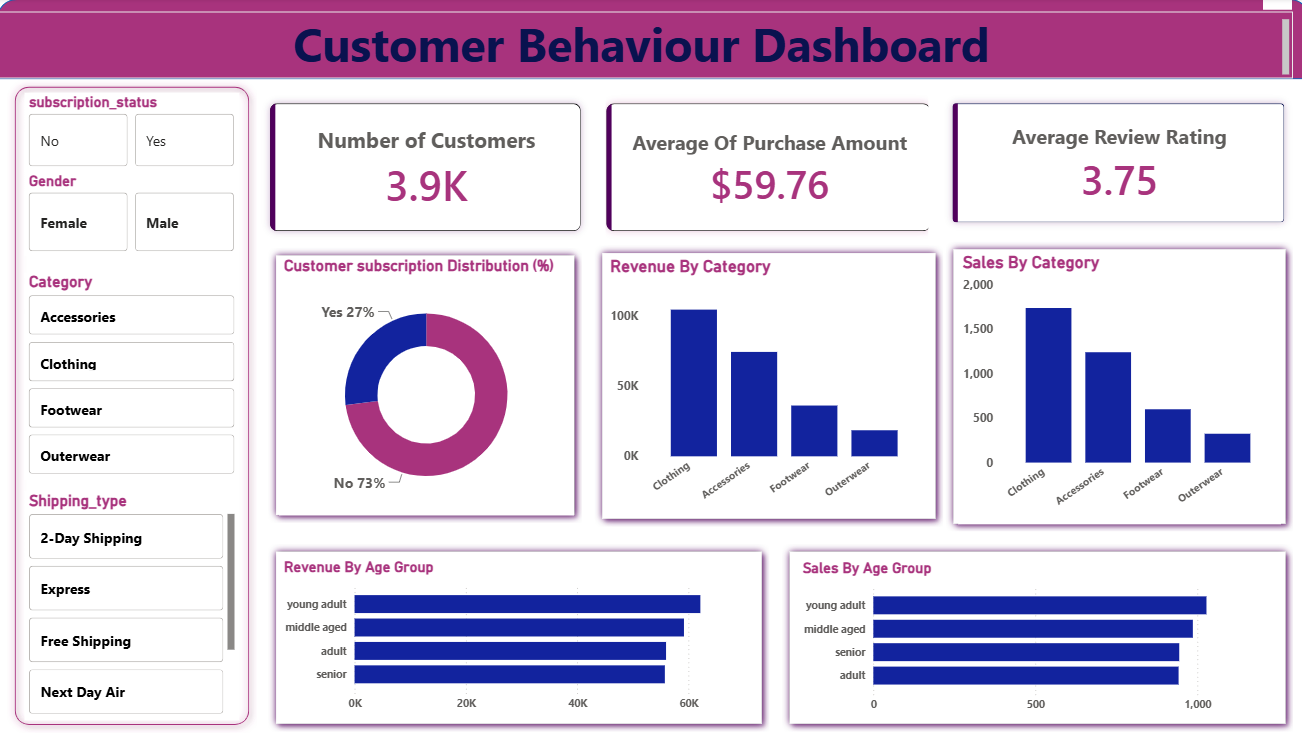

The dashboard page shown, as its layout file describes it:
{"tool":"powerbi","page":{"name":"Page 1","canvas":[1500,920],"ordinal":0},"visuals":[{"type":"cardVisual","fields":{"Data":["public customer.Average of purchase amount"]},"box":[668.6,120,427.1,202.9],"z":0},{"type":"cardVisual","fields":{"Data":["public customer.Average Review Rating"]},"box":[1064.3,120,435.7,192.9],"z":1000},{"type":"cardVisual","fields":{"Data":["public customer.Number of Customer"]},"box":[284.3,120,411.4,202.9],"z":2000},{"type":"shape","box":[0,28.9,1500.3,91.7],"z":3000},{"type":"textbox","box":[0,42.9,1481.4,77.1],"z":4000},{"type":"shape","box":[310,312.9,358.6,314.3],"z":5000},{"type":"donutChart","title":" Customer subscription Distribution (%)","fields":{"Category":["public customer.subscription_status"],"Y":["CountNonNull(public customer.customer_id)"]},"box":[322.9,322.9,335.7,295.7],"z":6000},{"type":"shape","box":[682.9,310,398.6,321.4],"z":6001},{"type":"clusteredColumnChart","title":"Revenue By Category","fields":{"Y":["Sum(public customer.purchase_amount)"],"Category":["public customer.category"]},"box":[695.7,322.9,368.6,298.6],"z":6002},{"type":"shape","box":[1084.3,305.7,397.1,331.4],"z":6003},{"type":"clusteredColumnChart","title":"Sales By Category","fields":{"Y":["CountNonNull(public customer.customer_id)"],"Category":["public customer.category"]},"box":[1098.6,318.6,368.6,310],"z":6004},{"type":"shape","box":[11.4,120,285.7,747.1],"z":6005},{"type":"advancedSlicerVisual","fields":{"Values":["public customer.subscription_status"]},"box":[31.4,135.7,245.7,90],"z":6006},{"type":"advancedSlicerVisual","title":"Gender","fields":{"Values":["public customer.gender"]},"box":[31.4,225.7,245.7,97.1],"z":6007},{"type":"advancedSlicerVisual","title":"Category","fields":{"Values":["public customer.category"]},"box":[31.4,341.4,245.7,237.1],"z":6008},{"type":"advancedSlicerVisual","title":"Shipping_type","fields":{"Values":["public customer.shipping_type"]},"box":[31.4,591.4,245.7,261.4],"z":6009},{"type":"shape","box":[310,651.4,572.9,214.3],"z":6010},{"type":"clusteredBarChart","title":"Revenue By Age Group","fields":{"Y":["Sum(public customer.purchase_amount)"],"Category":["public customer.age-group"]},"box":[322.9,667.1,547.1,184.3],"z":6011},{"type":"shape","box":[897.1,651.4,584.3,214.3],"z":6012},{"type":"clusteredBarChart","title":"Sales By Age Group","fields":{"Y":["CountNonNull(public customer.customer_id)"],"Category":["public customer.age-group"]},"box":[915.7,668.6,551.4,184.3],"z":6013}]}

Visuals, with their boxes on the page's 1500x920 design canvas (x1, y1, x2, y2). These are canvas units, not pixel positions in the 1302x737 screenshot, which may show the page scaled, cropped or inside an application window:
cardVisual - public customer.Average of purchase amount: 669:120:1096:323
cardVisual - public customer.Average Review Rating: 1064:120:1500:313
cardVisual - public customer.Number of Customer: 284:120:696:323
shape: 0:29:1500:121
textbox: 0:43:1481:120
shape: 310:313:669:627
" Customer subscription Distribution (%)" donutChart: 323:323:659:619
shape: 683:310:1082:631
"Revenue By Category" clusteredColumnChart: 696:323:1064:622
shape: 1084:306:1481:637
"Sales By Category" clusteredColumnChart: 1099:319:1467:629
shape: 11:120:297:867
advancedSlicerVisual - public customer.subscription_status: 31:136:277:226
"Gender" advancedSlicerVisual: 31:226:277:323
"Category" advancedSlicerVisual: 31:341:277:578
"Shipping_type" advancedSlicerVisual: 31:591:277:853
shape: 310:651:883:866
"Revenue By Age Group" clusteredBarChart: 323:667:870:851
shape: 897:651:1481:866
"Sales By Age Group" clusteredBarChart: 916:669:1467:853
